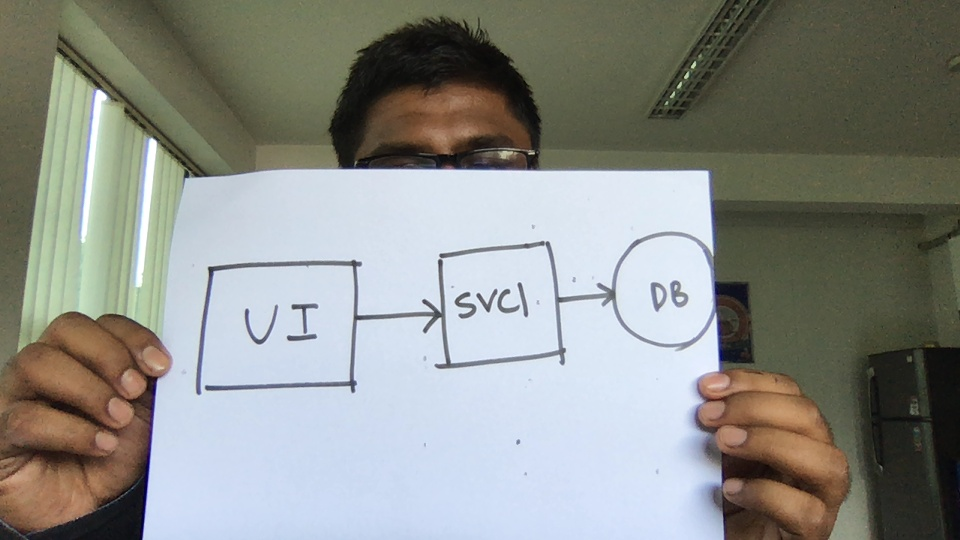db: (597, 228, 722, 357)
ec2: (430, 238, 570, 372)
ui: (192, 257, 367, 396)
